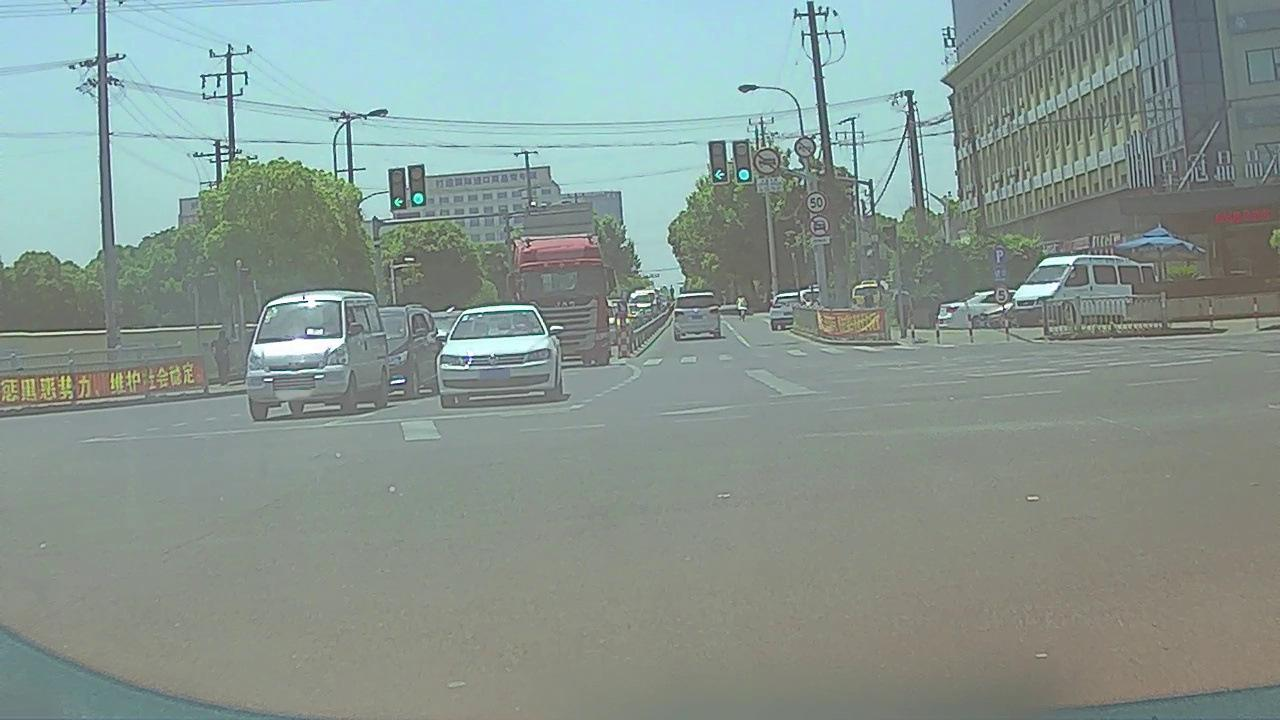traffic_light: (733, 138, 752, 184), (710, 141, 729, 185), (388, 169, 406, 210), (408, 165, 425, 207)
